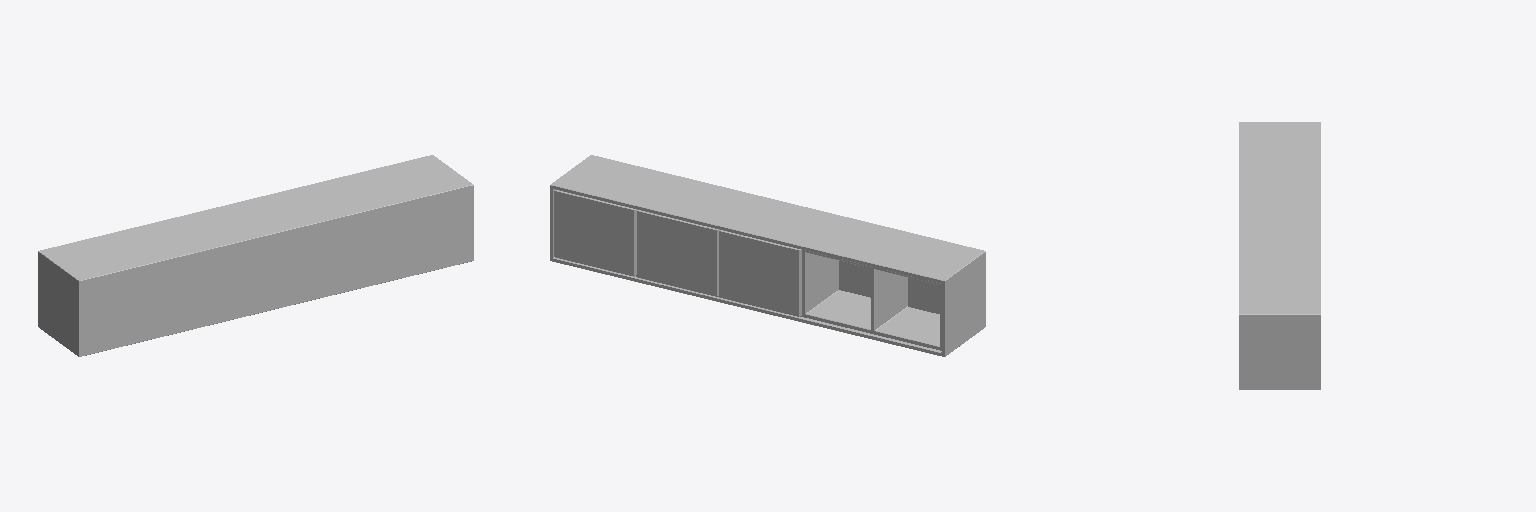
File: tvFront.obj
The picture shows the model from 3 angles: view 1: azimuth 30°, elevation 25°; view 2: azimuth 150°, elevation 25°; view 3: azimuth 270°, elevation 25°; orthographic projection.
Parts seen in each view (by area): view 1: Cube.038_Cube.058; view 2: Cube.038_Cube.058; view 3: Cube.038_Cube.058.
Part boxes in pixels (x1,y1,x2,y2): Cube.038_Cube.058: (38, 155, 473, 356); Cube.038_Cube.058: (550, 155, 985, 356); Cube.038_Cube.058: (1239, 122, 1320, 389).
Bounding box in the file's own units: 2.21 × 0.4082 × 0.4.